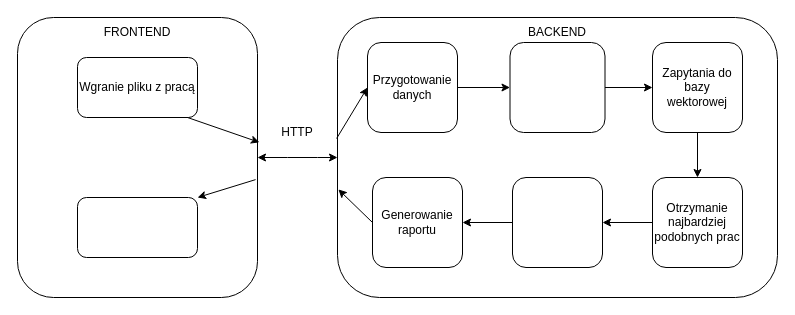
Some shapes in this 795 by 315 pixel diagram are drawn without their labels. Each missing label, with the box of its shape:
Analiza podobieństwa: (512, 176, 602, 268)
Otrzymanie wyników: (76, 196, 198, 258)
Tworzenie zanurzeń: (509, 42, 605, 132)
